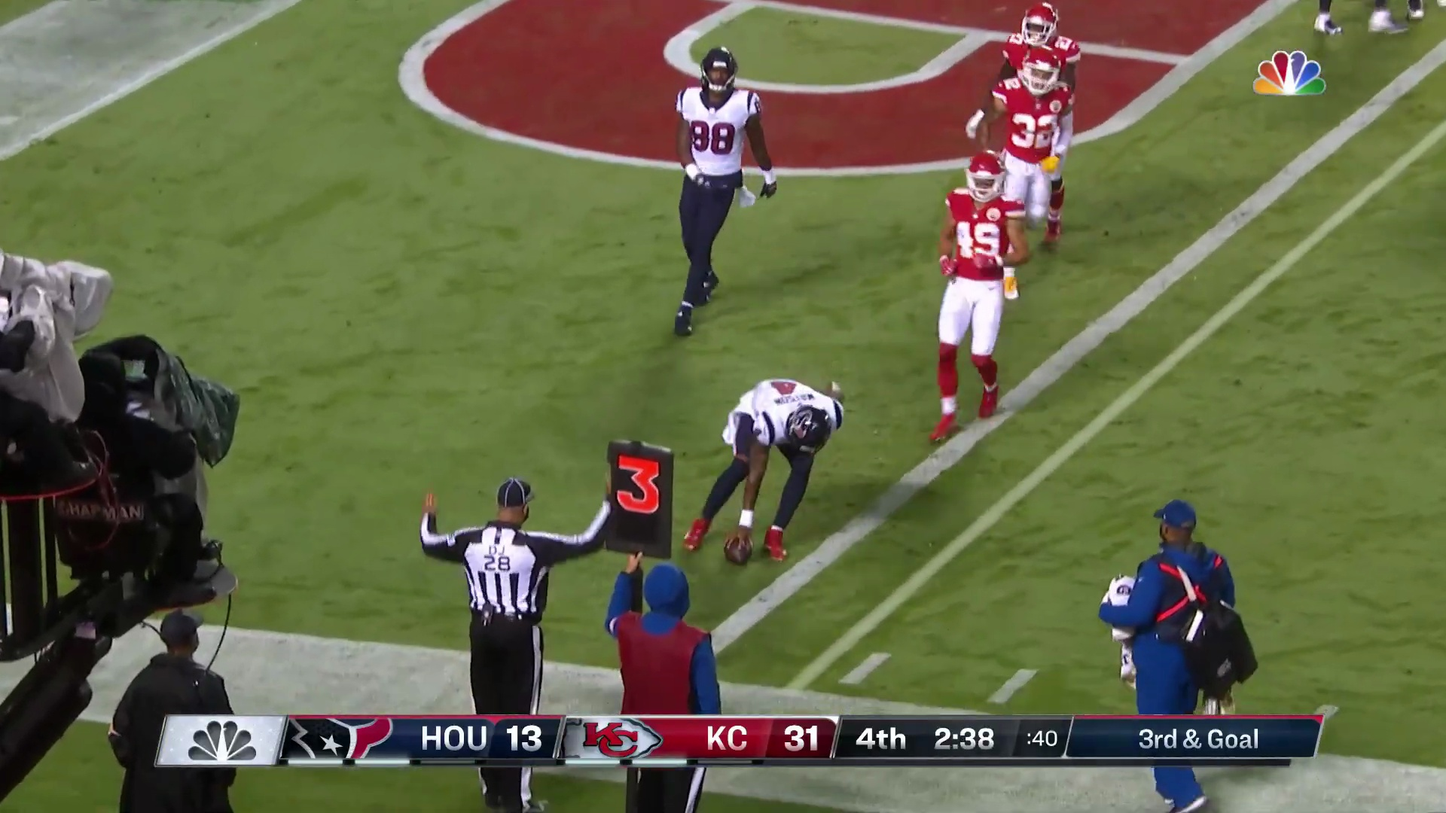Player: (79, 336, 214, 535), (936, 139, 1021, 436), (995, 4, 1078, 239), (0, 255, 109, 420)
